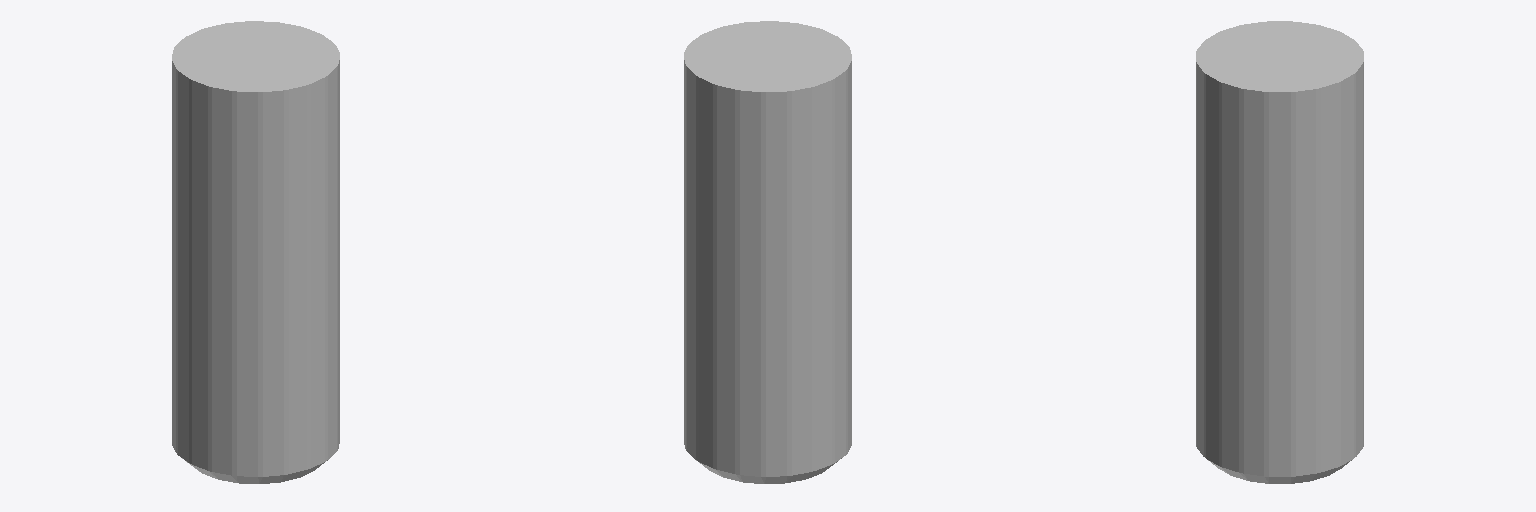
Rendered from rightleg.obj.
The picture shows the model from 3 angles: view 1: azimuth 30°, elevation 25°; view 2: azimuth 150°, elevation 25°; view 3: azimuth 270°, elevation 25°; orthographic projection.
Parts seen in each view (by area): view 1: pCylinder2; view 2: pCylinder2; view 3: pCylinder2.
Boxes of the visible parts, x1,y1,x2,y2 form: pCylinder2: [172, 21, 339, 483]; pCylinder2: [684, 21, 851, 483]; pCylinder2: [1196, 21, 1363, 483].
Bounding box in the file's own units: 17.4 × 45.65 × 17.4.